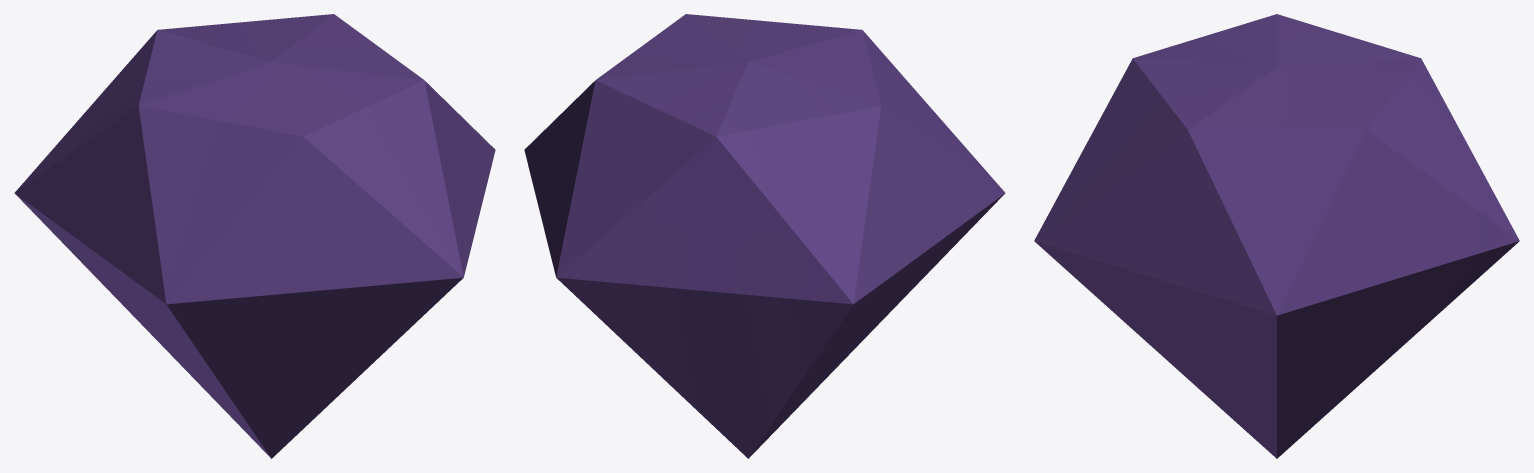
The model's file is diamond2.fbx.
The picture shows the model from 3 angles, left to right: view 1: azimuth 30°, elevation 25°; view 2: azimuth 150°, elevation 25°; view 3: azimuth 270°, elevation 25°; orthographic projection.
Parts seen in each view (by area): view 1: Icosphere; view 2: Icosphere; view 3: Icosphere.
Part boxes in pixels (x1,y1,x2,y2): Icosphere: (14, 14, 495, 458); Icosphere: (524, 14, 1005, 458); Icosphere: (1034, 14, 1519, 458).
Bounding box in the file's own units: 1.57 × 1.47 × 1.65.
